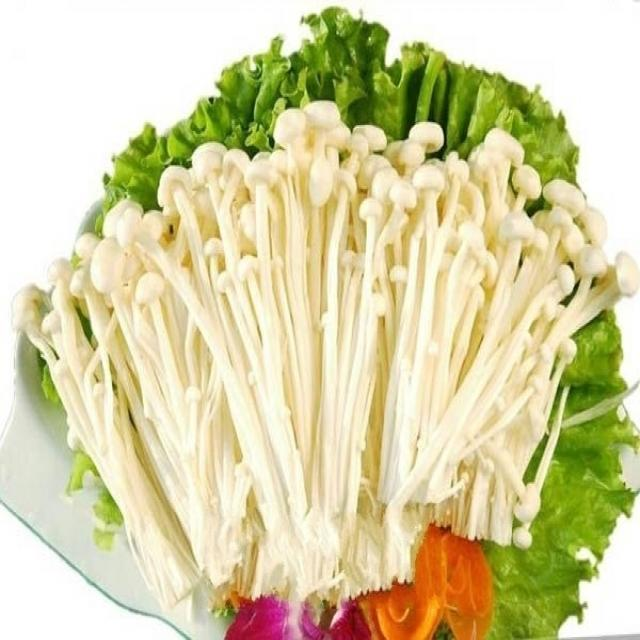Flammulina velutiper: (13, 100, 638, 606)
